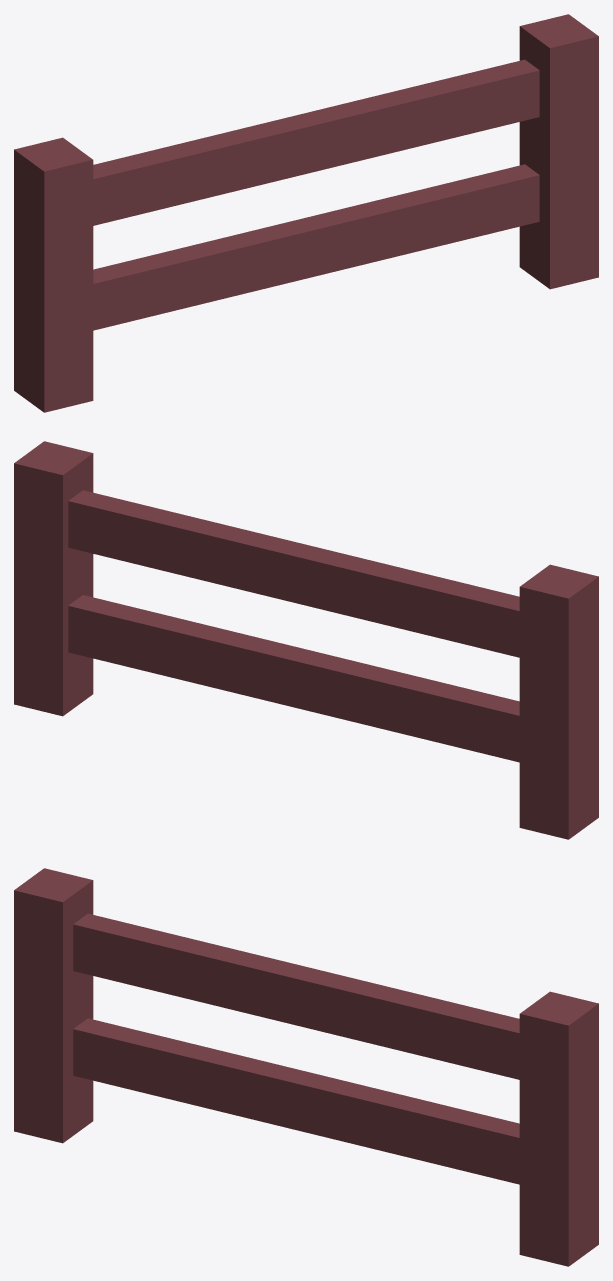
Rendered from Ograda_I.fbx.
3 renders of one model, top to bottom at view 1: azimuth 30°, elevation 25°; view 2: azimuth 150°, elevation 25°; view 3: azimuth 330°, elevation 25°, orthographic.
Parts seen in each view (by area): view 1: Cube.002; view 2: Cube.002; view 3: Cube.002.
Boxes of the visible parts, x1,y1,x2,y2 form: Cube.002: [14, 14, 598, 412]; Cube.002: [14, 441, 598, 839]; Cube.002: [14, 868, 598, 1266].
Size of the model in its own units: 77.54 by 32.21 by 7.33.
